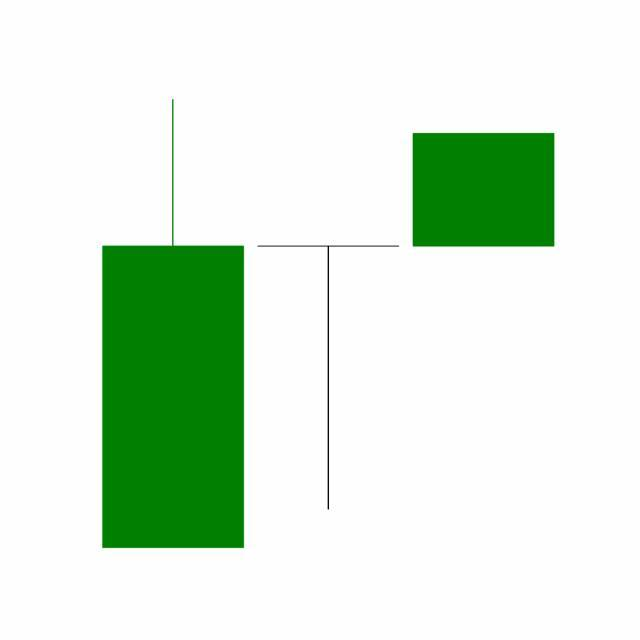Hammer: (250, 244, 407, 514)
